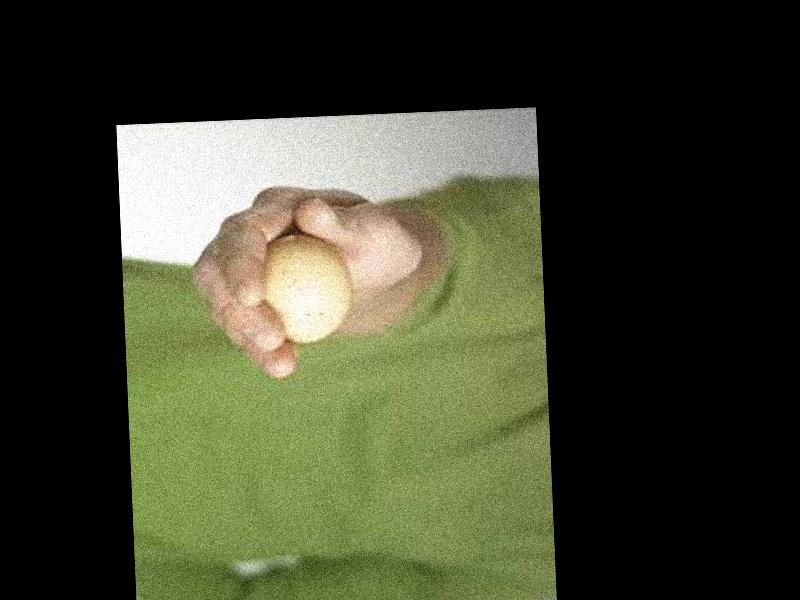Eggs: (260, 233, 352, 345)
